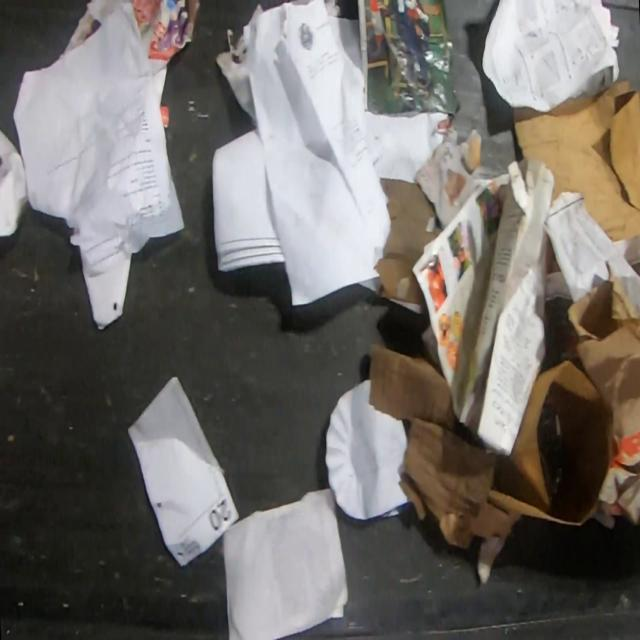cardboard: (367, 342, 499, 553), (464, 358, 614, 538), (510, 77, 640, 243), (372, 177, 443, 305), (591, 429, 640, 532), (546, 239, 553, 274)
